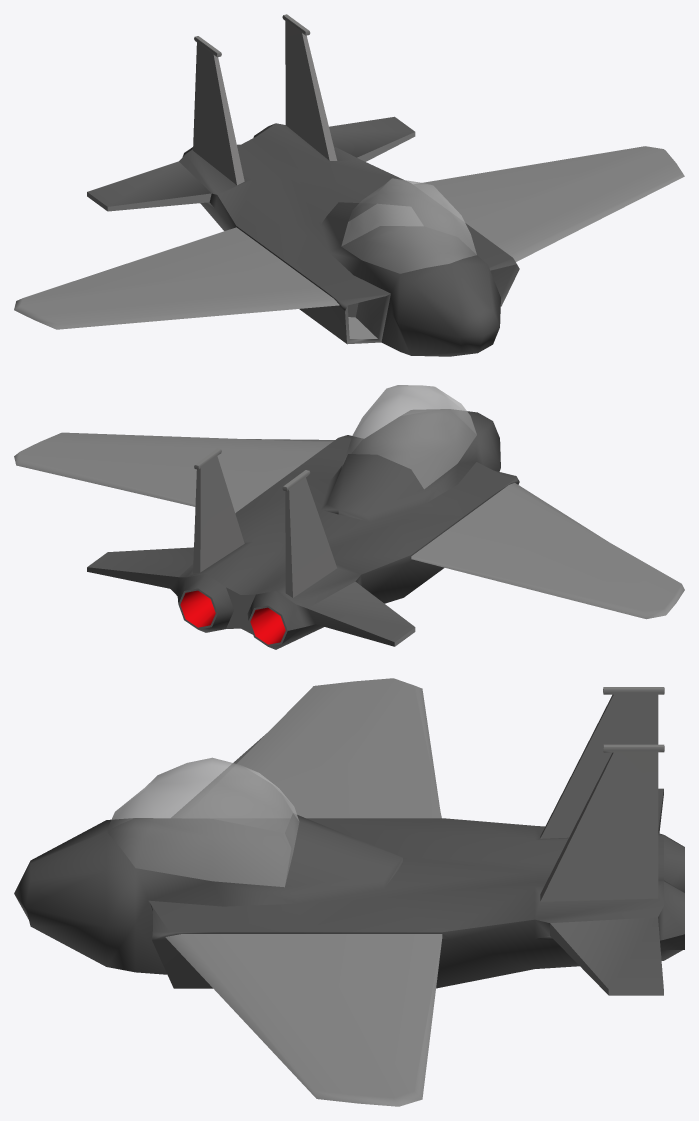
File: enemy.glb
The picture shows the model from 3 angles, top to bottom: view 1: azimuth 30°, elevation 25°; view 2: azimuth 150°, elevation 25°; view 3: azimuth 270°, elevation 25°; orthographic projection. The views are drawn at different scales.
Visible parts, largest first — view 1: Jet; view 2: Jet; view 3: Jet.
Part boxes in pixels (x1=…): Jet: x1=14, y1=14, x2=684, y2=356; Jet: x1=14, y1=385, x2=684, y2=649; Jet: x1=14, y1=678, x2=684, y2=1106.
Bounding box in the file's own units: 8.2 × 2.21 × 5.46.
